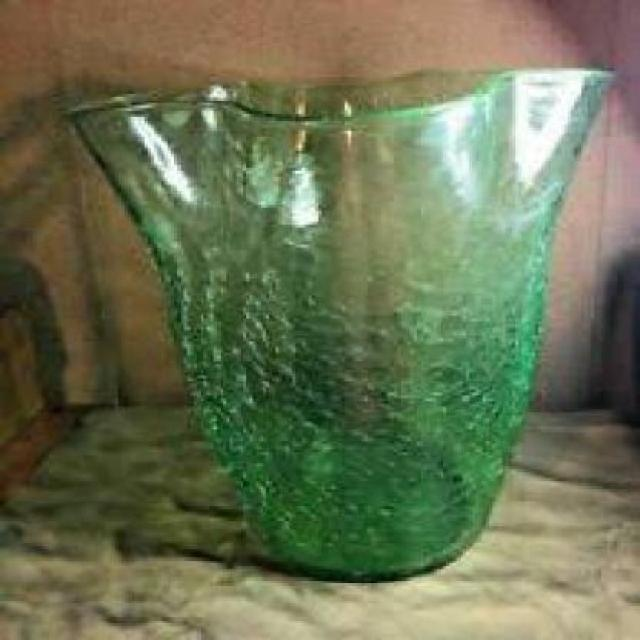kaca: (58, 66, 611, 583)
